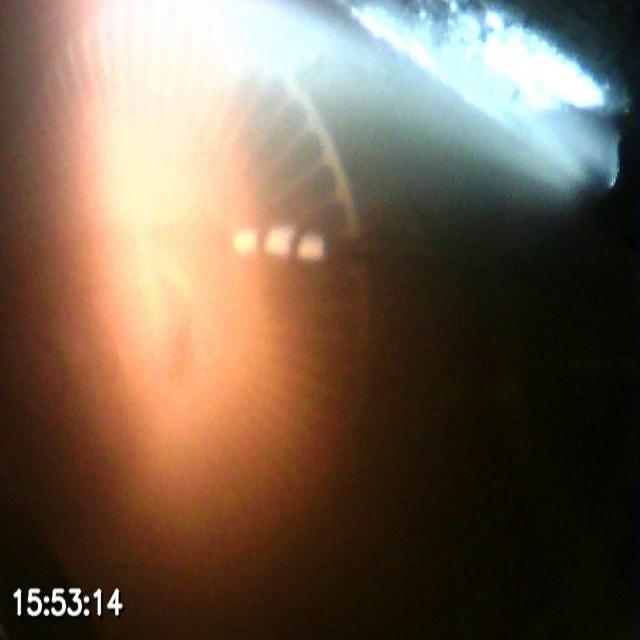white-dots: (232, 225, 328, 264)
